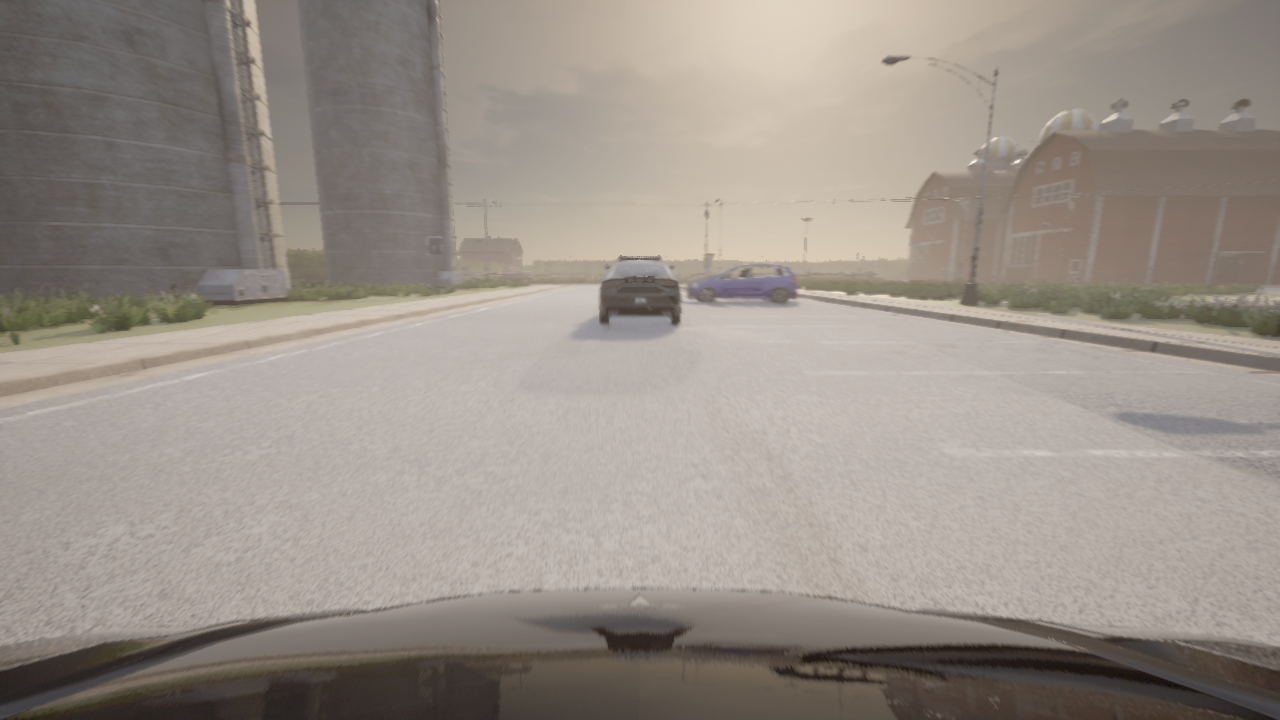cyclist: (0, 588, 1279, 719), (599, 256, 680, 323), (685, 263, 796, 302), (498, 271, 535, 283)
